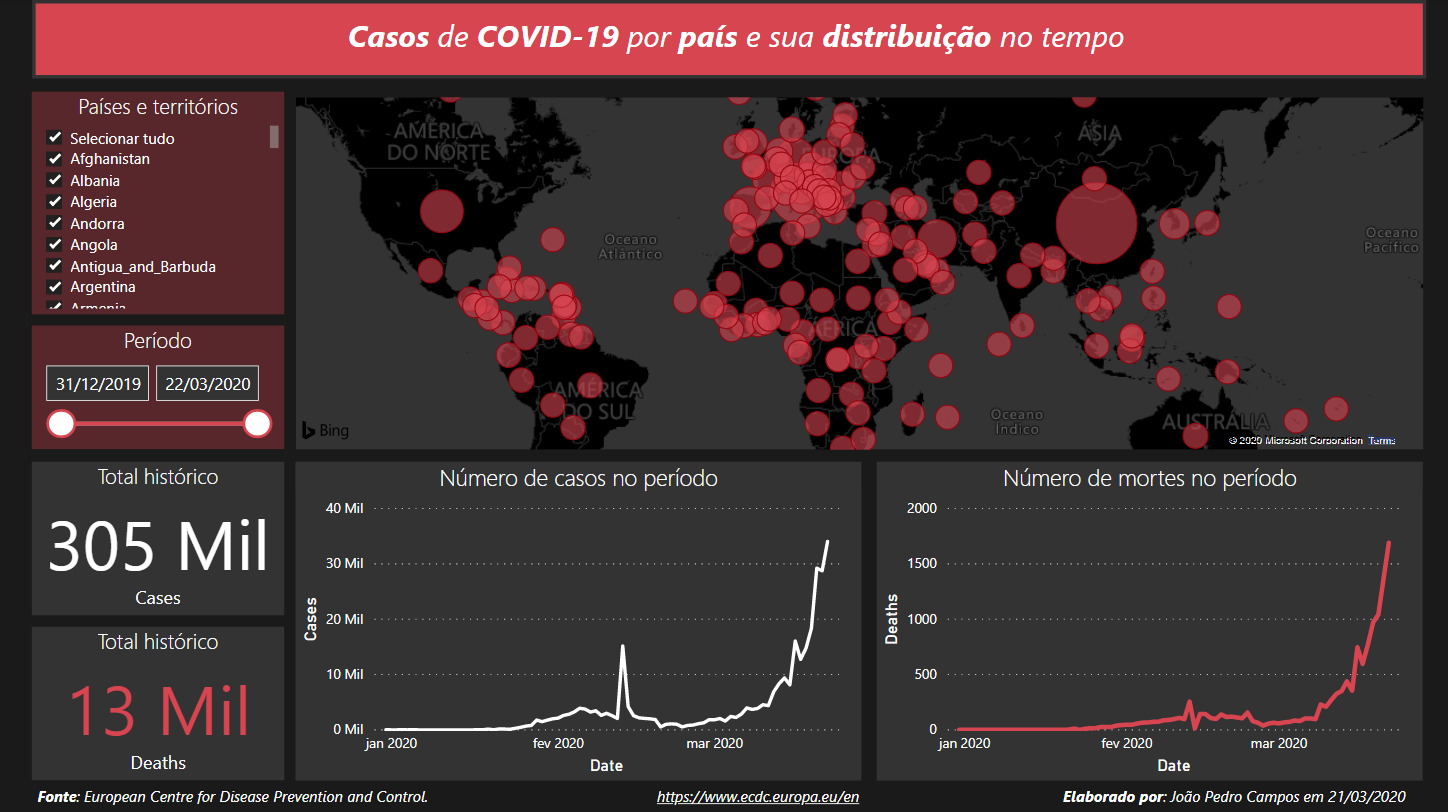

Layout of this report page (visuals, bound fields, positions):
{"tool":"powerbi","page":{"name":"Página 1","canvas":[1280,720],"ordinal":0},"visuals":[{"type":"map","title":"Mortes COVID-19 por países e territórios","fields":{"Category":["COVID-19-geographic-disbtributi.Countries and territories"],"Size":["Sum(COVID-19-geographic-disbtributi.Cases)"]},"box":[257.4,77.7,998.3,323.5],"z":0},{"type":"basicShape","title":"COVID-19","box":[18.7,1.1,1096.5,70.5],"z":1000},{"type":"textbox","box":[137.1,9.5,1025.2,46.5],"z":2000},{"type":"slicer","title":"Países e territórios","fields":{"Values":["COVID-19-geographic-disbtributi.Countries and territories"]},"box":[29.7,82.6,222.4,196],"z":3000},{"type":"card","title":"Total histórico","fields":{"Values":["Sum(COVID-19-geographic-disbtributi.Cases)"]},"box":[29.7,408.4,222.4,135],"z":4000},{"type":"card","title":"Total histórico","fields":{"Values":["Sum(COVID-19-geographic-disbtributi.Deaths)"]},"box":[29.7,553.8,222.4,135.4],"z":5000},{"type":"slicer","title":"Período","fields":{"Values":["COVID-19-geographic-disbtributi.DateRep"]},"box":[29.7,288.4,222.4,109],"z":6000},{"type":"textbox","box":[29.7,689.2,1223.1,30.8],"z":7000},{"type":"lineChart","title":"Casos no período","fields":{"Y":["Sum(COVID-19-geographic-disbtributi.Cases)"],"Category":["COVID-19-geographic-disbtributi.DateRep"]},"box":[262,408.1,490,280.6],"z":8000},{"type":"lineChart","title":"Mortes no período","fields":{"Y":["Sum(COVID-19-geographic-disbtributi.Deaths)"],"Category":["COVID-19-geographic-disbtributi.DateRep"]},"box":[764.1,408.1,490.4,280.6],"z":9000},{"type":"actionButton","title":"Ver mais","box":[1113.4,6,137.1,64.4],"z":10000}]}

Visuals, with their boxes in screenshot pixels (x1, y1, x2, y2), scaled from the page's 1280x720 canvas onto the 1448x812 screenshot:
"Mortes COVID-19 por países e territórios" map: BBox(291, 88, 1421, 452)
"COVID-19" basicShape: BBox(21, 1, 1262, 81)
textbox: BBox(155, 11, 1315, 63)
"Países e territórios" slicer: BBox(34, 93, 285, 314)
"Total histórico" card: BBox(34, 461, 285, 613)
"Total histórico" card: BBox(34, 625, 285, 777)
"Período" slicer: BBox(34, 325, 285, 448)
textbox: BBox(34, 777, 1417, 811)
"Casos no período" lineChart: BBox(296, 460, 851, 777)
"Mortes no período" lineChart: BBox(864, 460, 1419, 777)
"Ver mais" actionButton: BBox(1260, 7, 1415, 79)
